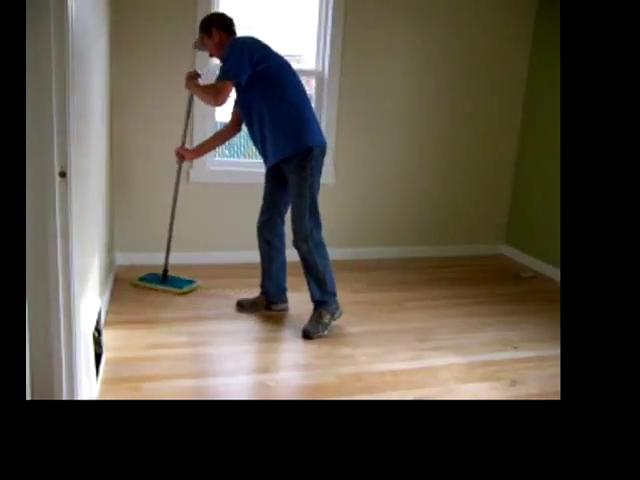victim: (170, 11, 354, 345)
